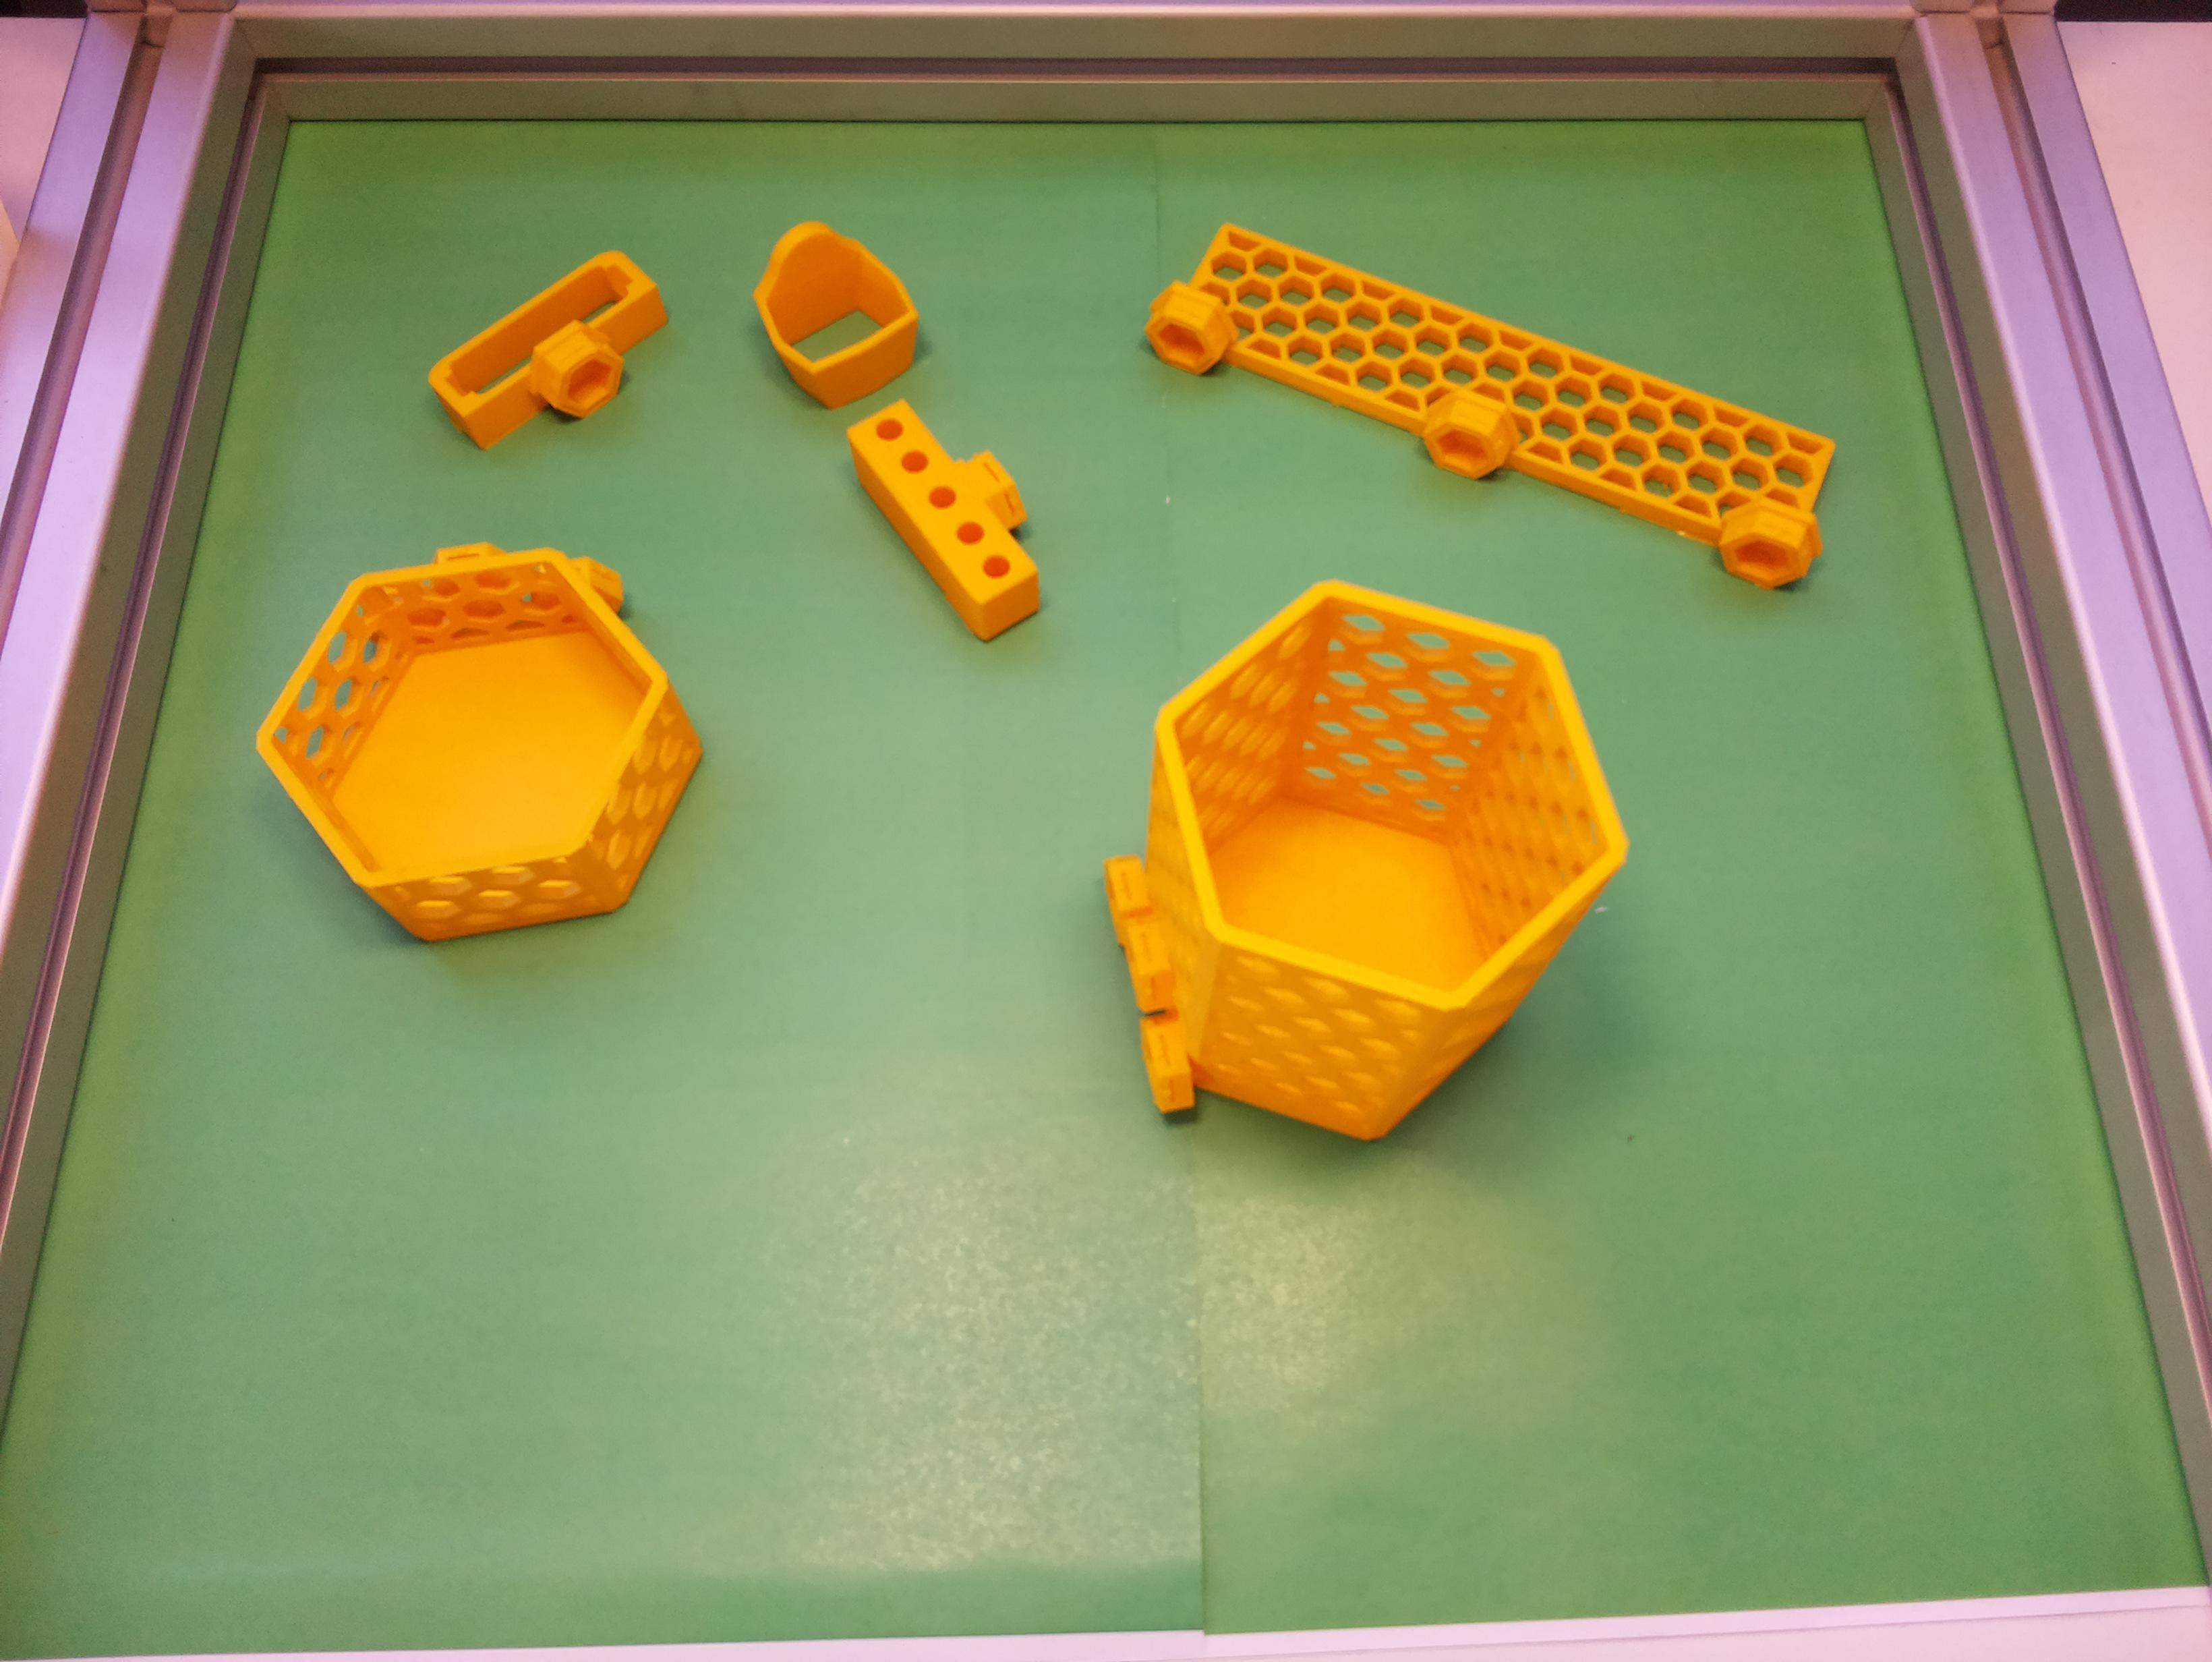bit_holder: (831, 368, 1082, 649)
bottle_holder: (211, 475, 749, 1020)
cup_holder: (1048, 543, 1676, 1213)
cutter_holder: (416, 239, 695, 475)
scissor_holder: (723, 194, 945, 424)
tool_holder: (1131, 208, 1858, 602)
